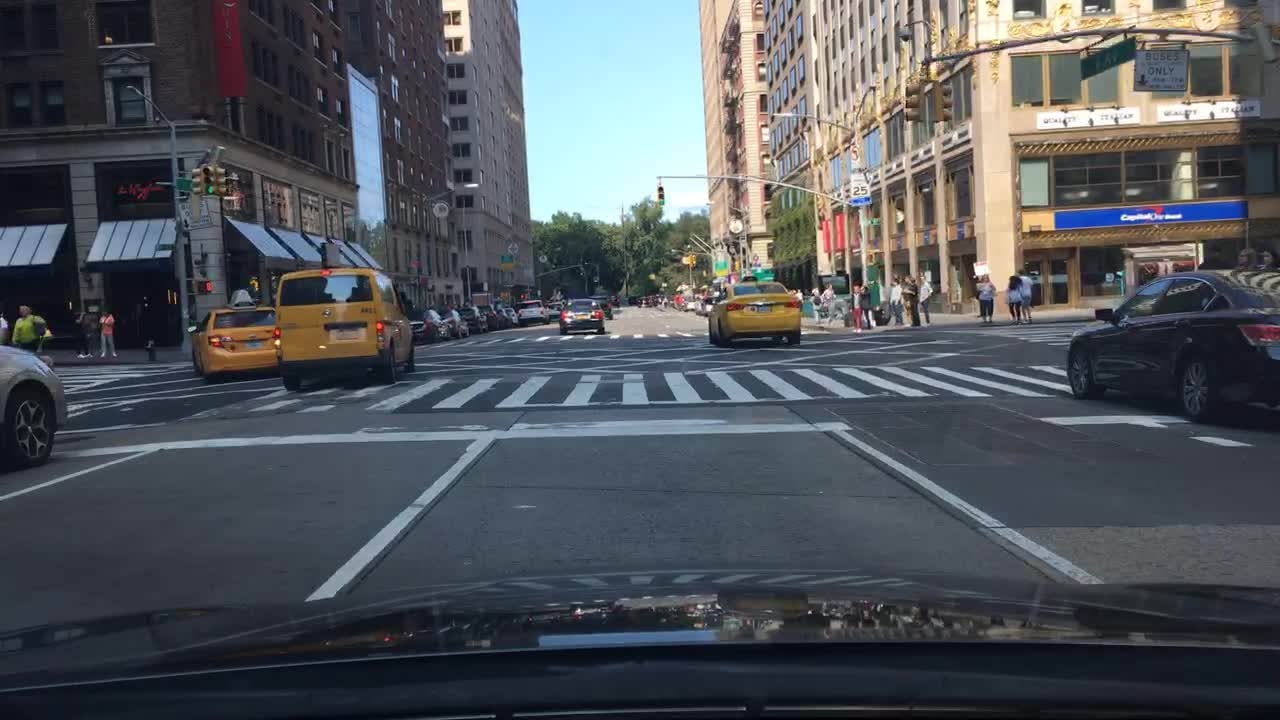car: (1066, 270, 1279, 425), (269, 265, 419, 390), (0, 341, 70, 470), (186, 286, 277, 383), (704, 276, 804, 347), (557, 297, 605, 335), (410, 309, 449, 342), (513, 298, 551, 327), (455, 304, 492, 333), (441, 302, 467, 340), (586, 293, 616, 323), (474, 301, 502, 333), (696, 293, 718, 317), (493, 306, 515, 329), (504, 305, 520, 328), (680, 294, 699, 313), (546, 300, 564, 320), (672, 292, 688, 312), (692, 294, 706, 316), (607, 293, 622, 308), (625, 293, 640, 305), (660, 293, 675, 305), (645, 293, 659, 305), (655, 293, 667, 304)
person: (12, 304, 48, 352), (974, 271, 1000, 323), (1012, 266, 1035, 324), (96, 308, 121, 360), (71, 308, 96, 360), (902, 274, 922, 327), (1195, 243, 1231, 272), (915, 274, 935, 325), (887, 275, 906, 328), (1005, 274, 1024, 324), (1230, 243, 1260, 273), (848, 284, 865, 335), (970, 271, 988, 319), (858, 284, 875, 331), (819, 281, 837, 325), (900, 274, 914, 327), (809, 286, 825, 325), (1256, 247, 1278, 270), (0, 309, 12, 345), (795, 286, 806, 310)
traffic light: (901, 83, 927, 124), (929, 84, 954, 123), (199, 164, 216, 193), (216, 165, 230, 195), (189, 166, 203, 195), (196, 278, 212, 296), (656, 185, 665, 208), (867, 253, 875, 263), (691, 254, 697, 266)
traffic sign: (1075, 35, 1139, 79), (1133, 48, 1186, 91), (177, 200, 214, 231), (849, 175, 873, 205), (498, 253, 515, 273), (175, 175, 193, 193), (714, 258, 731, 277), (154, 242, 176, 251), (481, 280, 490, 292), (869, 216, 881, 224), (501, 282, 513, 289)
